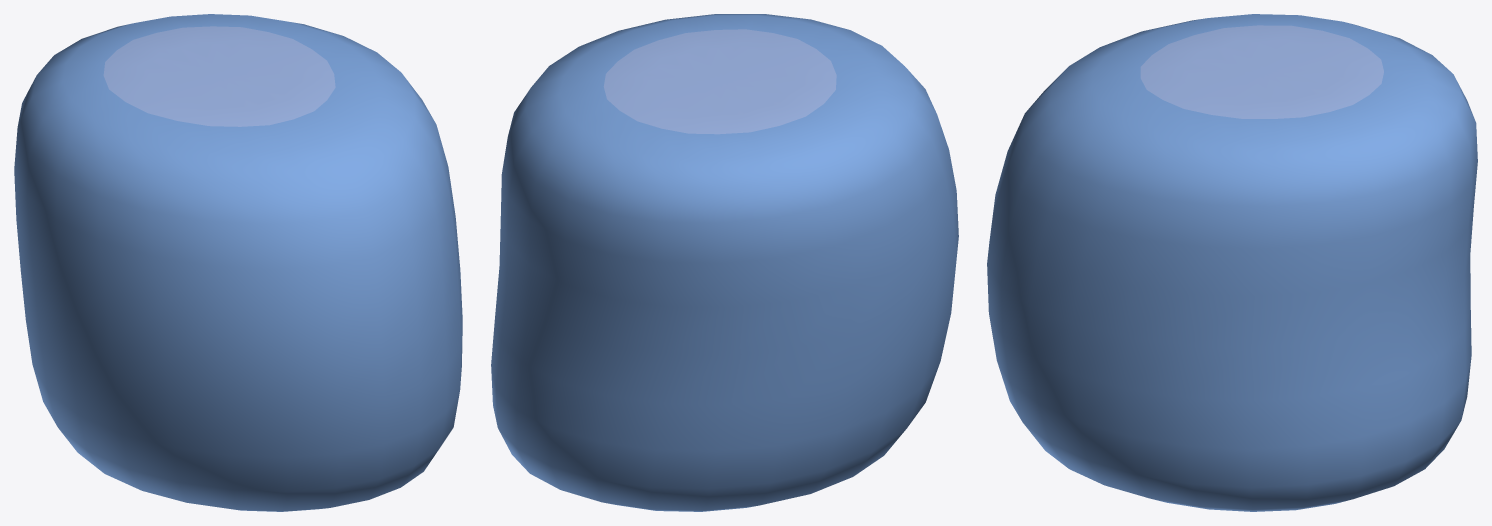
File: Marshmallow_B_02.fbx
The picture shows the model from 3 angles, left to right: view 1: azimuth 30°, elevation 25°; view 2: azimuth 150°, elevation 25°; view 3: azimuth 270°, elevation 25°; orthographic projection. The views are drawn at different scales.
Visible parts, largest first — view 1: Marshmallow_B_02_LOD0; view 2: Marshmallow_B_02_LOD0; view 3: Marshmallow_B_02_LOD0.
Part boxes in pixels (x1,y1,x2,y2): Marshmallow_B_02_LOD0: (14, 14, 462, 511); Marshmallow_B_02_LOD0: (491, 14, 958, 511); Marshmallow_B_02_LOD0: (987, 14, 1477, 511).
Size of what is drawn, in the model's own units: 394 by 368 by 442.
